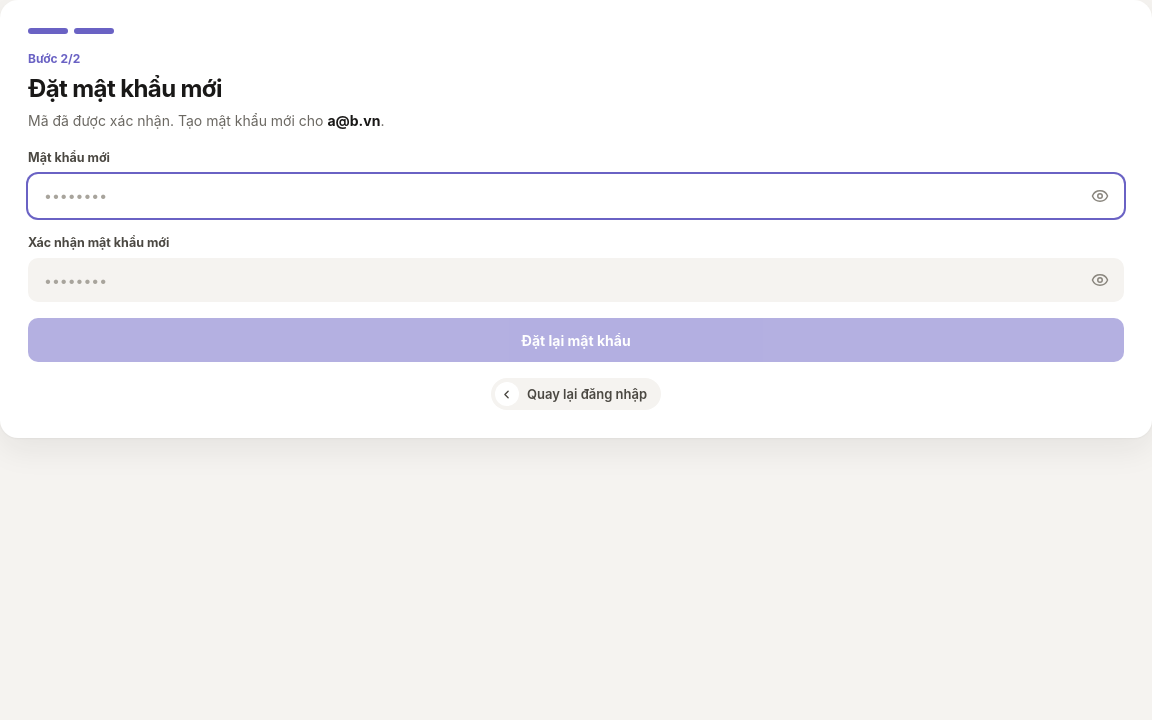
Test case: ResetPasswordPage (OTP 2 bước) › vé hết hạn ở bước 2 ⇒ quay lại bước 1 với nút gửi lại mã
Expected: the text "Bước 2/2" is shown, [28,51,80,66]
Type "new-password-456" into the password field labelled "Mật khẩu mới" at (576, 196), box [28,174,1124,218]
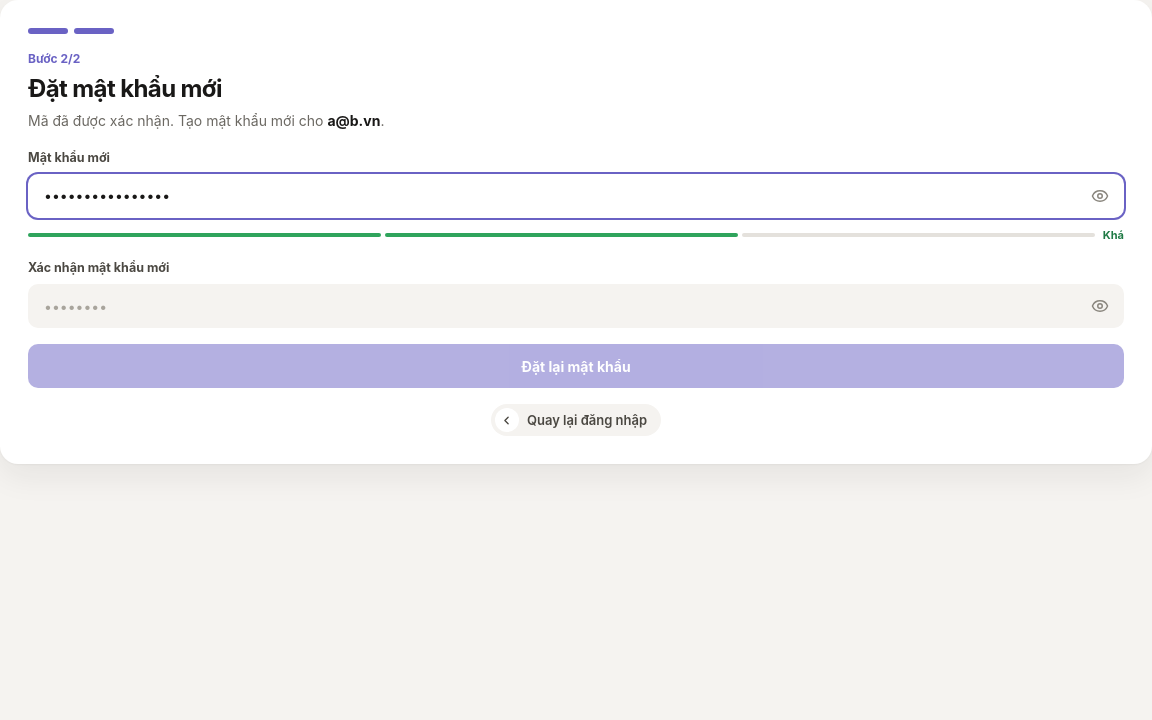
Type "new-password-456" into the password field labelled "Xác nhận mật khẩu mới" at (576, 306), box [28,284,1124,328]
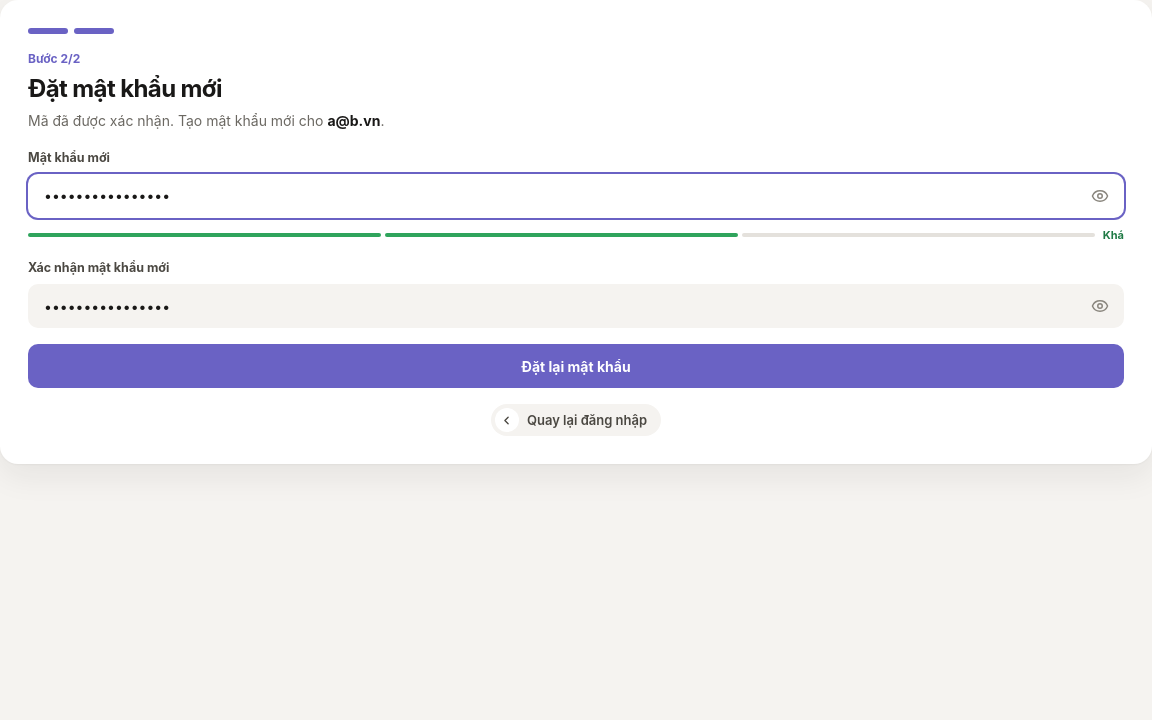
Click the button "Đặt lại mật khẩu" at (576, 366), box [28,344,1124,388]
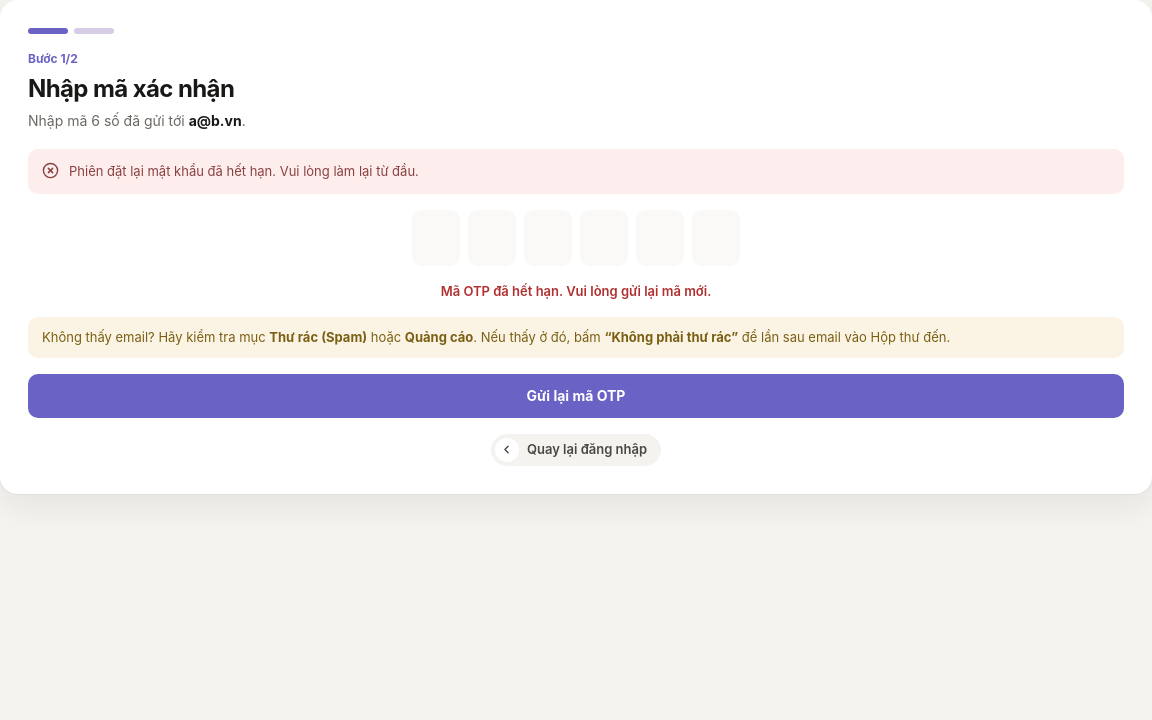
Expected: the text "Bước 1/2" is shown, [28,51,78,66]
Expected: the text "Phiên đặt lại mật khẩu đã hết hạn. Vui lòng làm lại từ đầu." is shown, [69,163,419,179]
Expected: the button "Gửi lại mã OTP" is shown, [28,374,1124,418]
